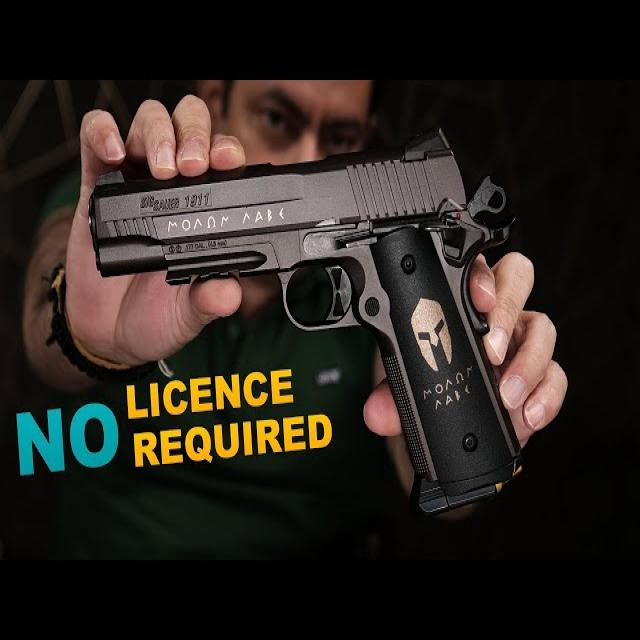HandGun: (89, 129, 522, 517)
